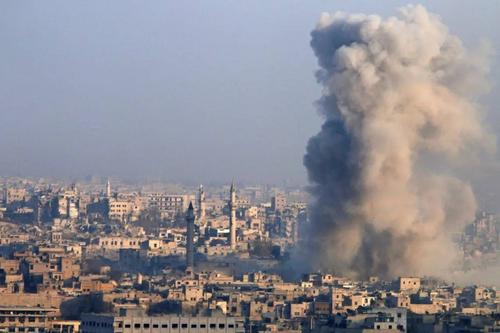smoke: (298, 13, 473, 266)
